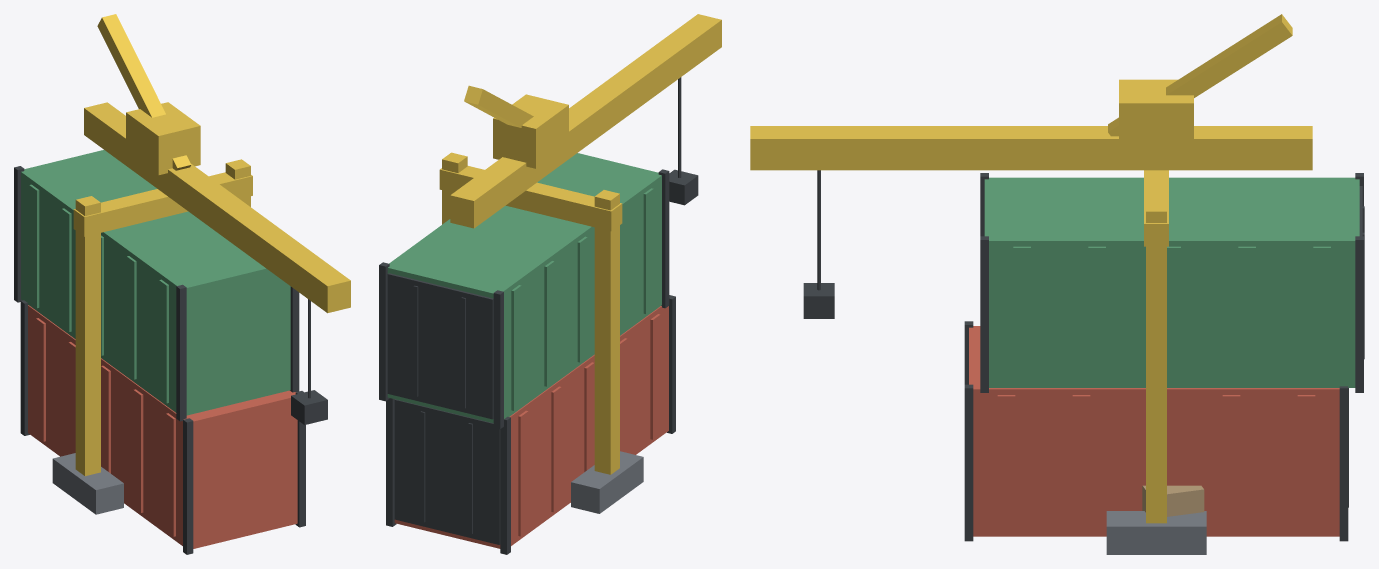
The model's file is decor_harbor.glb.
3 views of the same model, side by side, from view 1: azimuth 30°, elevation 25°; view 2: azimuth 150°, elevation 25°; view 3: azimuth 270°, elevation 25° (orthographic). The views are drawn at different scales.
Parts seen in each view (by area): view 1: KonteynerCift, KonteynerK, Vinc; view 2: KonteynerCift, KonteynerK, Vinc; view 3: KonteynerCift, KonteynerK, Vinc, Kasa.
Part boxes in pixels (x1=…): KonteynerCift: x1=14, y1=150, x2=299, y2=421; KonteynerK: x1=20, y1=300, x2=305, y2=554; Vinc: x1=52, y1=14, x2=350, y2=514; KonteynerCift: x1=379, y1=153, x2=669, y2=428; KonteynerK: x1=386, y1=295, x2=675, y2=554; Vinc: x1=439, y1=14, x2=721, y2=513; KonteynerCift: x1=980, y1=173, x2=1364, y2=392; KonteynerK: x1=964, y1=321, x2=1348, y2=541; Vinc: x1=750, y1=14, x2=1312, y2=554; Kasa: x1=1142, y1=485, x2=1204, y2=516.
Bounding box in the file's own units: 3.8 × 8.65 × 9.83.
